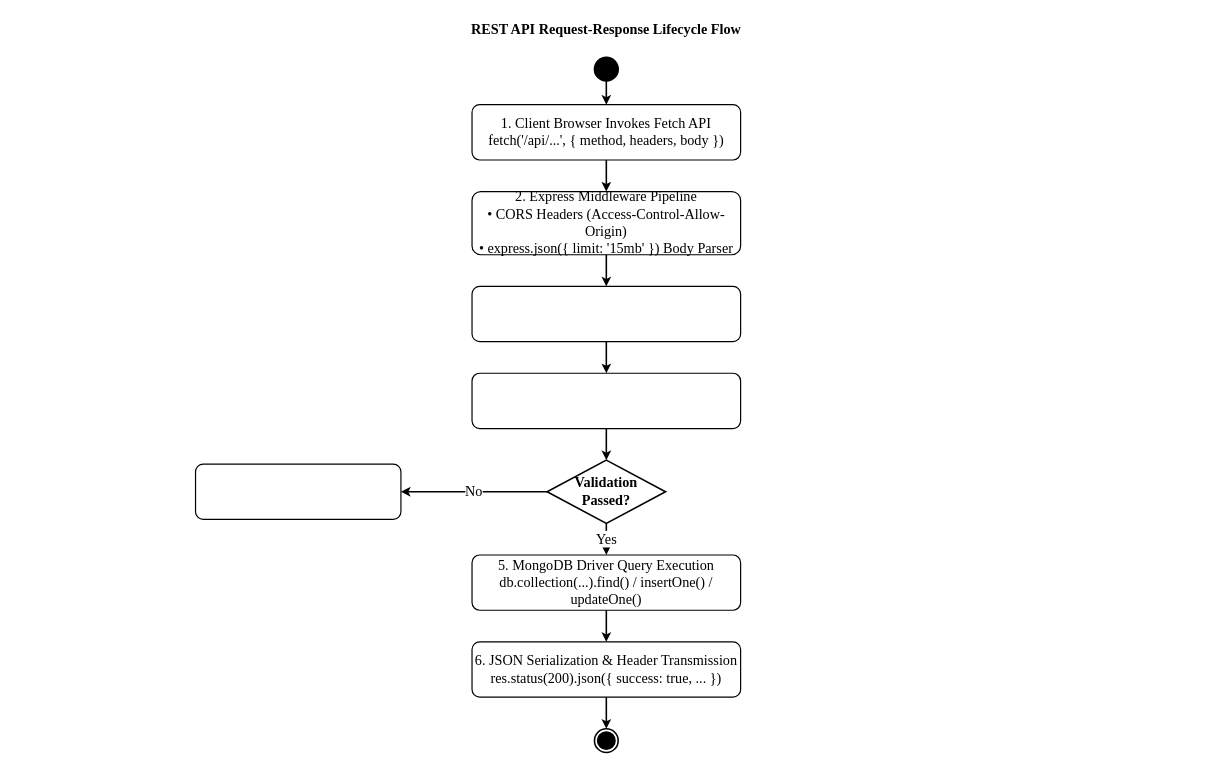
The diagram is 1212 pixels wide and 766 high, and some of its shapes have lost their labels. The box of each missing label's shape, as (x1, y1, x2, y2) in pixels:
3. Express Router Matching Match HTTP Method & Parameterized Route Path: (471, 285, 741, 342)
4. Route Handler & Input Validation Validate Types, Bounds, Dates, Base64 MIME: (471, 372, 741, 429)
Return HTTP 400 Bad Request { success: false, message: '...' }: (195, 463, 401, 520)
